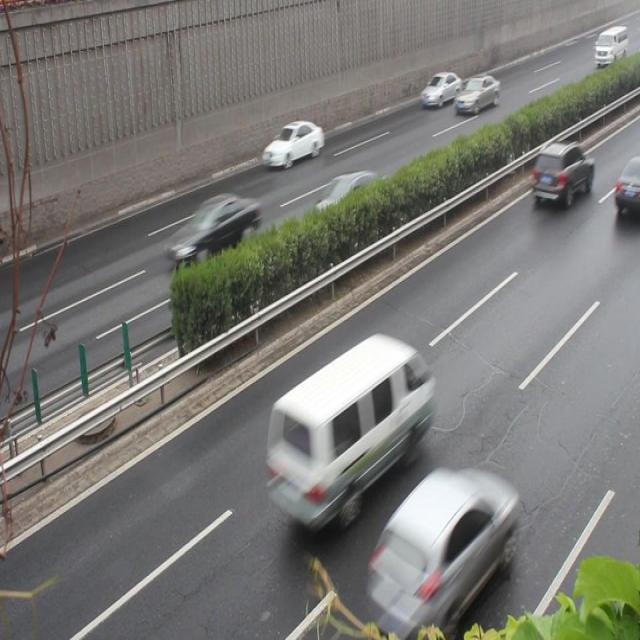car: (362, 466, 516, 624), (165, 190, 258, 266), (310, 172, 390, 236), (527, 139, 593, 208), (262, 121, 323, 169), (455, 74, 498, 117), (420, 74, 459, 110)
truck: (265, 332, 430, 519)
